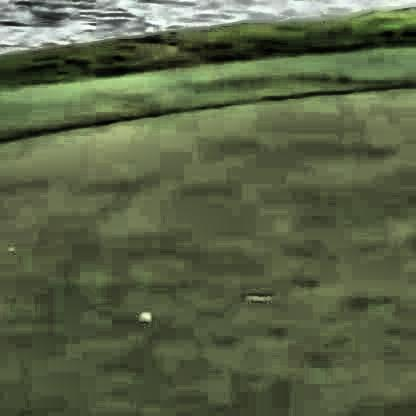golfball: (136, 306, 152, 322)
